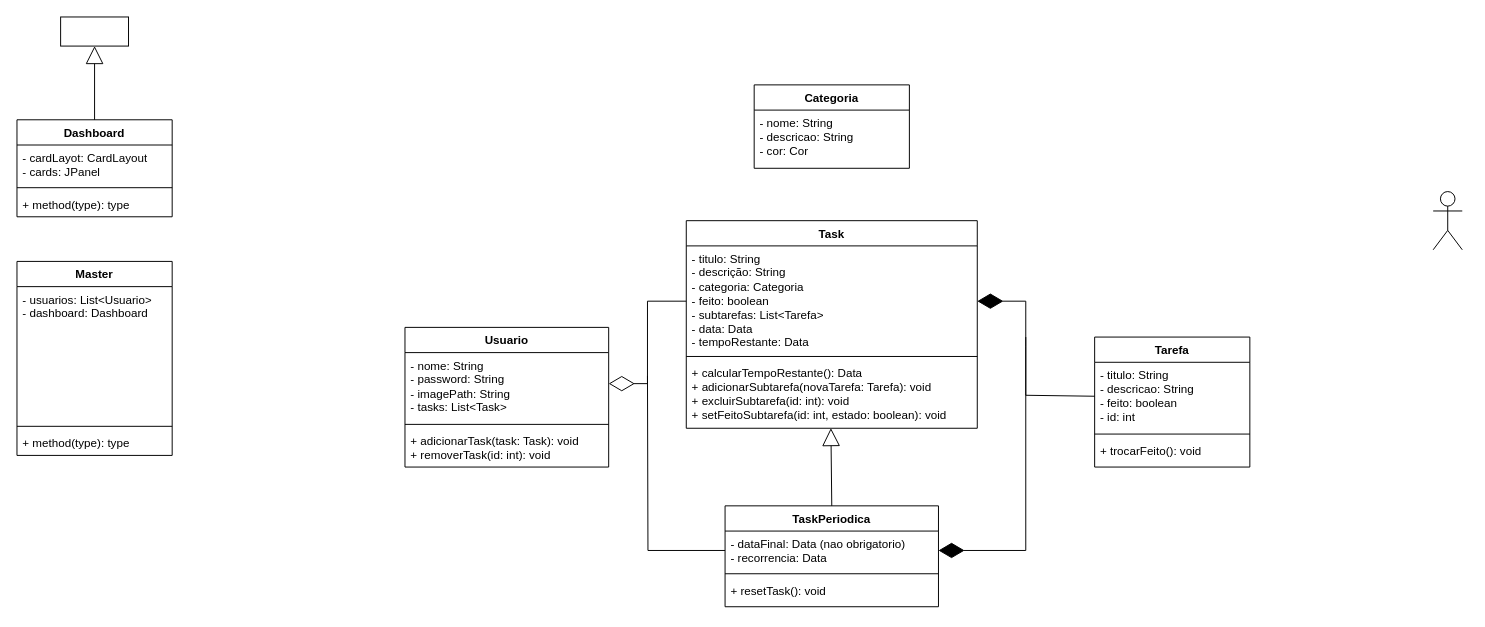
This 1485x627 diagram has some shape labels left out. The centre of each missing label's shape, as x and y in pixels:
"JFrame" belongs at (94,31).
"Marcelo" belongs at (1447,220).
